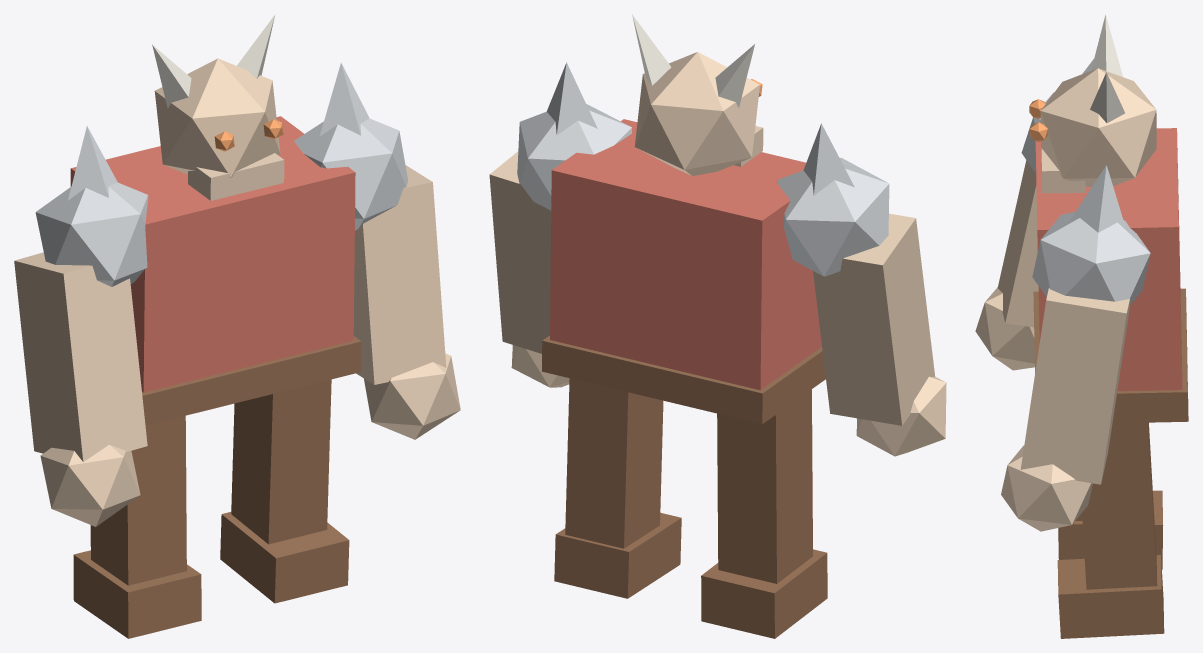
The model's file is npcpose_brute_idle_04.glb.
3 views of the same model, side by side, from view 1: azimuth 30°, elevation 25°; view 2: azimuth 150°, elevation 25°; view 3: azimuth 270°, elevation 25° (orthographic). The views are drawn at different scales.
Parts seen in each view (by area): view 1: npcpose; view 2: npcpose; view 3: npcpose.
Boxes of the visible parts, left/top/right/bottom form: npcpose: left=14, top=14, right=460, bottom=638; npcpose: left=489, top=14, right=946, bottom=638; npcpose: left=975, top=14, right=1188, bottom=638.
Bounding box in the file's own units: 1.43 × 1.85 × 0.6574.
